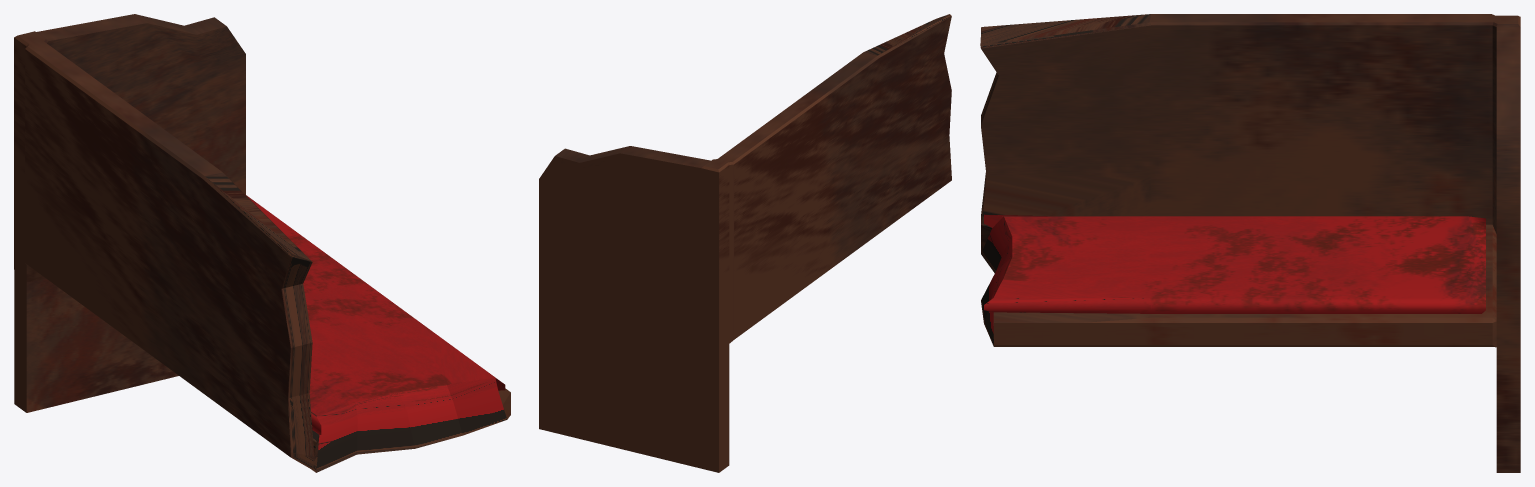
The model's file is half pew.obj.
3 renders of one model, left to right at view 1: azimuth 30°, elevation 25°; view 2: azimuth 150°, elevation 25°; view 3: azimuth 270°, elevation 25°, orthographic. The views are drawn at different scales.
Parts seen in each view (by area): view 1: pCube10; view 2: pCube10; view 3: pCube10.
Part boxes in pixels (box(x1,y1,x2,y2)): pCube10: box(14, 14, 510, 472); pCube10: box(539, 14, 951, 472); pCube10: box(980, 14, 1520, 472).
Size of the model in its own units: 2.84 by 4.41 by 6.07.
